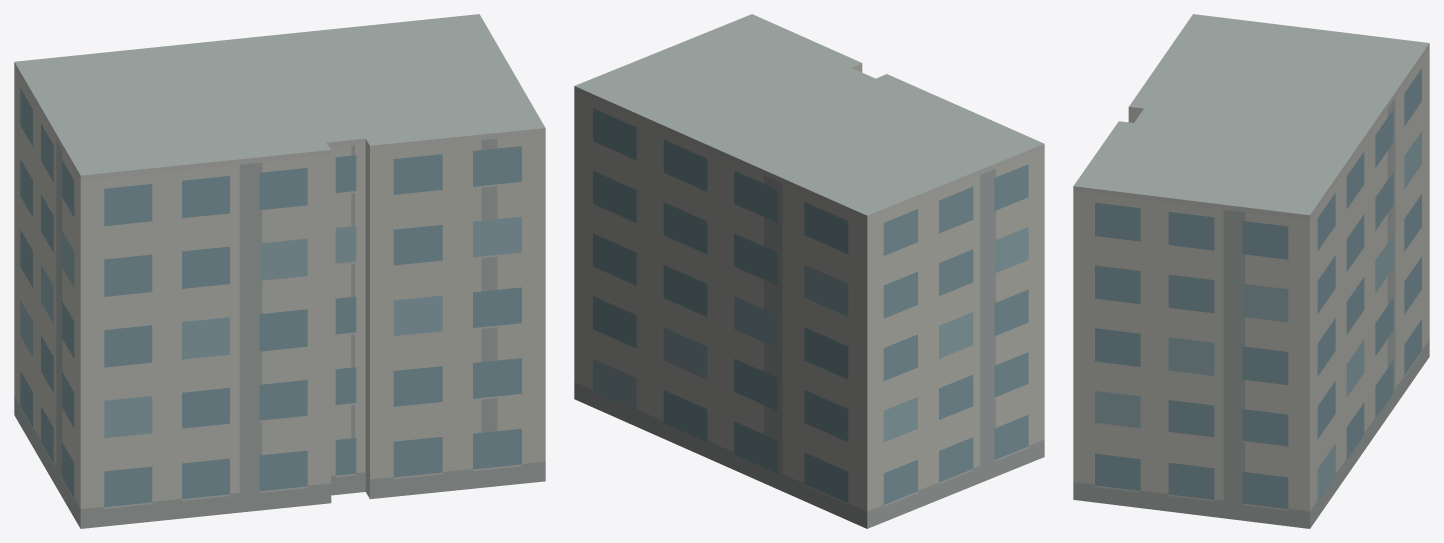
File: survey-upis-32984768.glb
The picture shows the model from 3 angles, left to right: view 1: azimuth 30°, elevation 25°; view 2: azimuth 150°, elevation 25°; view 3: azimuth 270°, elevation 25°; orthographic projection. The views are drawn at different scales.
Parts seen in each view (by area): view 1: survey-upis-32984768.tmp; view 2: survey-upis-32984768.tmp; view 3: survey-upis-32984768.tmp.
Boxes of the visible parts, x1,y1,x2,y2 form: survey-upis-32984768.tmp: [14, 14, 545, 528]; survey-upis-32984768.tmp: [574, 14, 1044, 528]; survey-upis-32984768.tmp: [1073, 14, 1429, 528].
Size of the model in its own units: 21 by 15.25 by 15.71.
